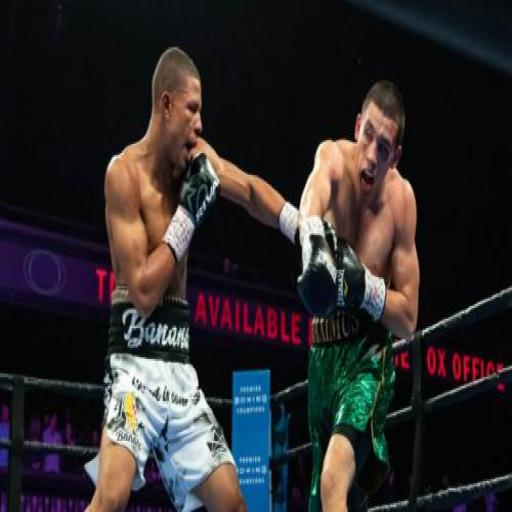boxing: (78, 44, 334, 510)
